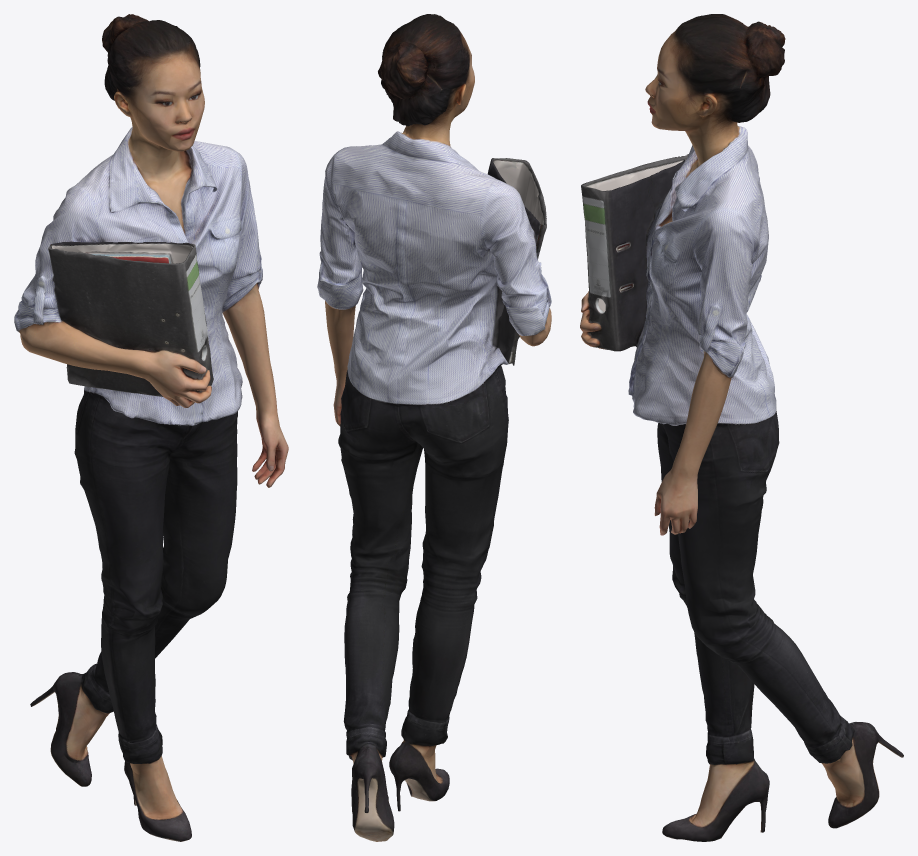
Rendered from female2.glb.
3 renders of one model, left to right at view 1: azimuth 30°, elevation 25°; view 2: azimuth 150°, elevation 25°; view 3: azimuth 270°, elevation 25°, orthographic. The views are drawn at different scales.
Visible parts, largest first — view 1: rp_mei_posed_001_30k.001; view 2: rp_mei_posed_001_30k.001; view 3: rp_mei_posed_001_30k.001.
Part boxes in pixels (box(x1,y1,x2,y2)): rp_mei_posed_001_30k.001: box(14, 14, 288, 841); rp_mei_posed_001_30k.001: box(317, 14, 551, 841); rp_mei_posed_001_30k.001: box(580, 14, 903, 841).
Size of the model in its own units: 7.74 by 24.49 by 8.82.
1 material, 1 textured.
